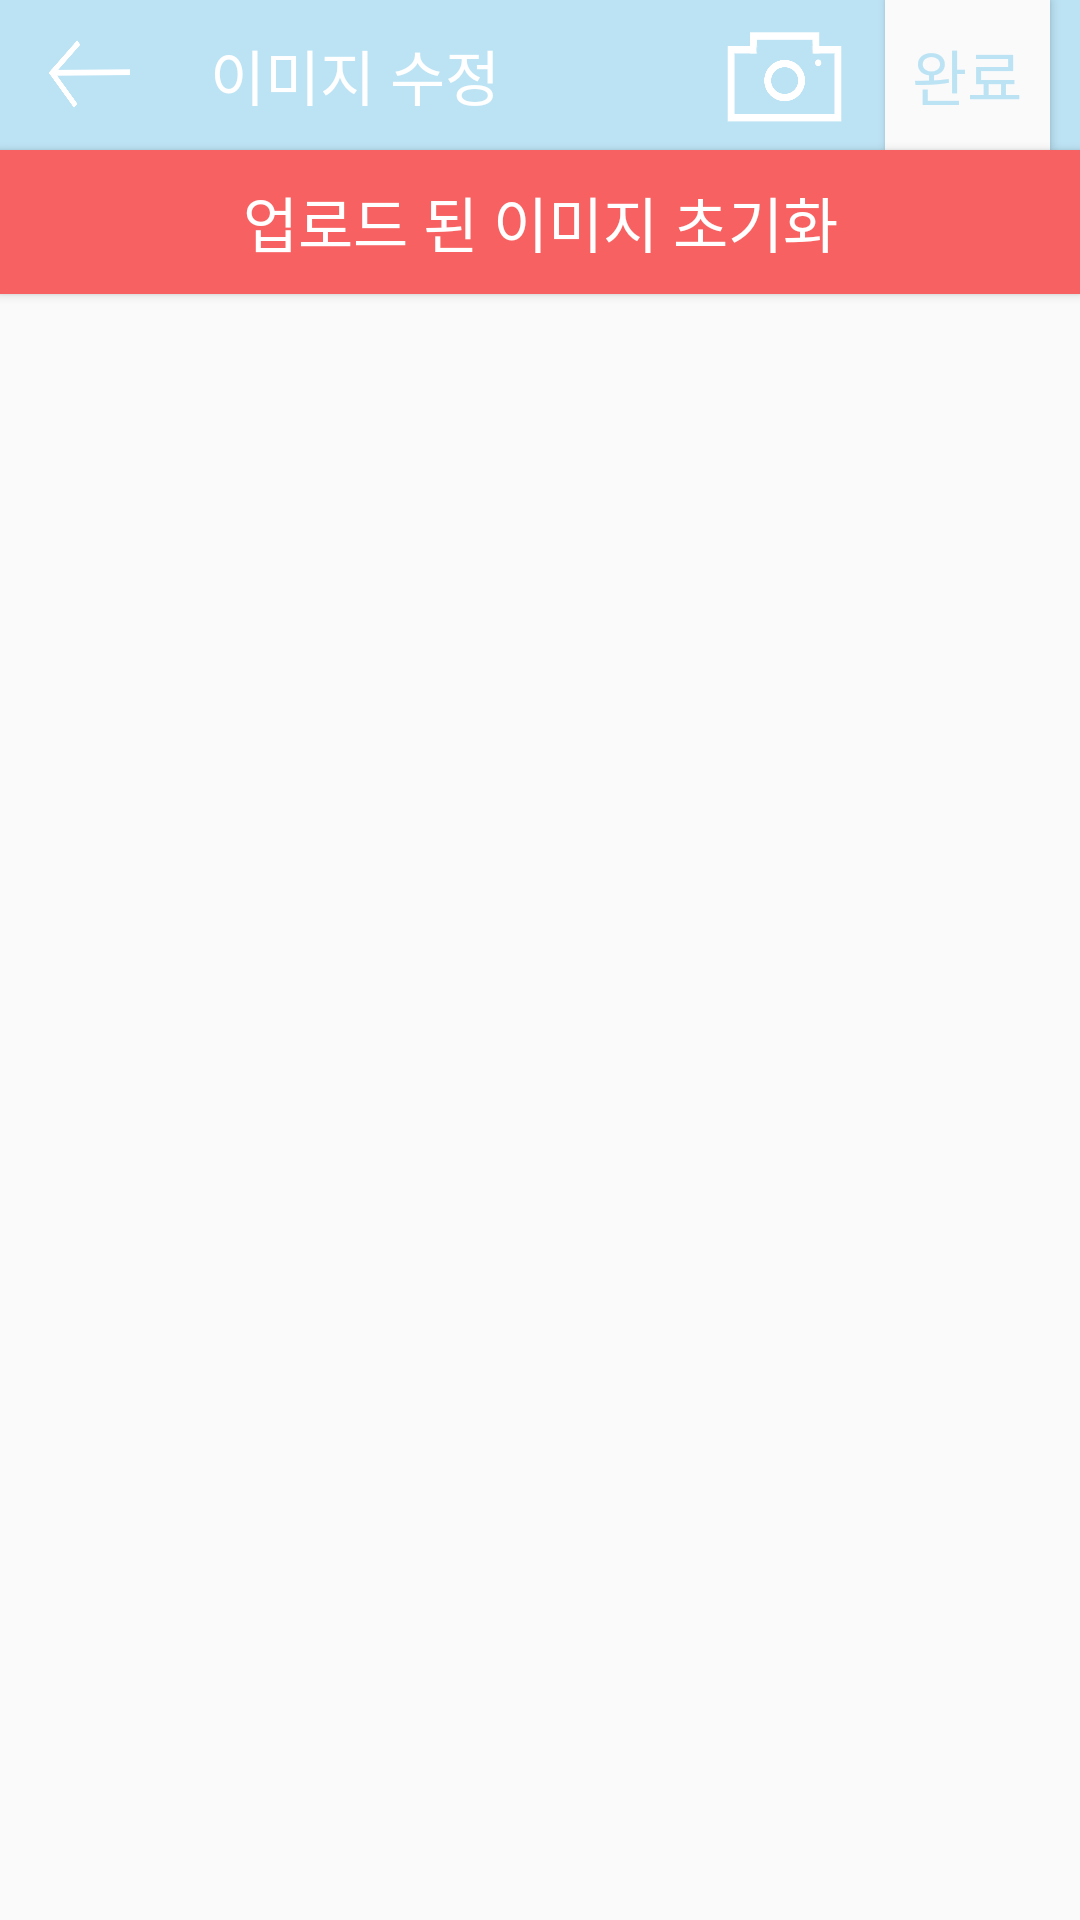

Icons on this 1080 x 1920 Android screen, each with its box as (x1, y1, x2, y2):
camera: (728, 32, 841, 122)
